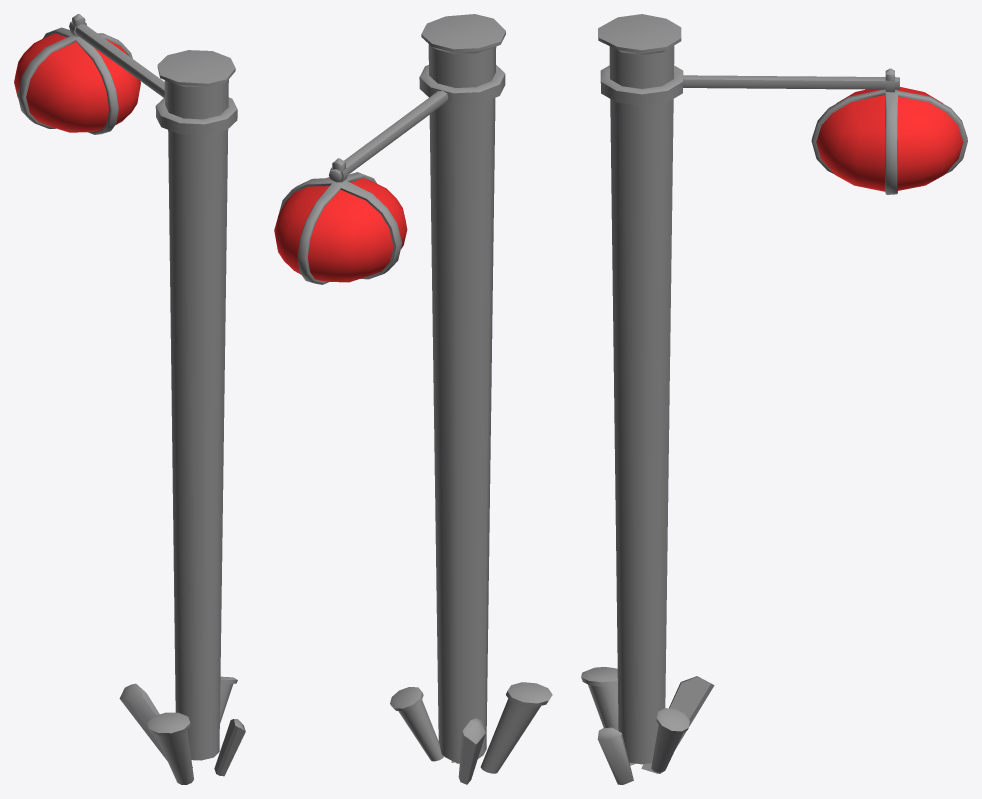
The model's file is _LOW_Lampadaire.fbx.
3 views of the same model, side by side, from view 1: azimuth 30°, elevation 25°; view 2: azimuth 150°, elevation 25°; view 3: azimuth 270°, elevation 25° (orthographic). The views are drawn at different scales.
Visible parts, largest first — view 1: lampadaire001; view 2: lampadaire001; view 3: lampadaire001.
Boxes of the visible parts, x1=… form: lampadaire001: x1=14, y1=14, x2=245, y2=784; lampadaire001: x1=274, y1=14, x2=552, y2=784; lampadaire001: x1=581, y1=14, x2=967, y2=784.
Size of the model in its own units: 776 by 4366 by 2044.
